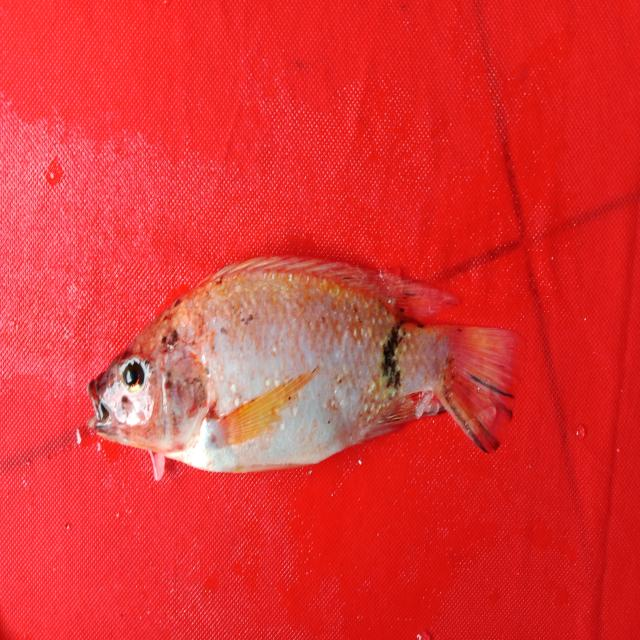ikan: (66, 241, 533, 485)
